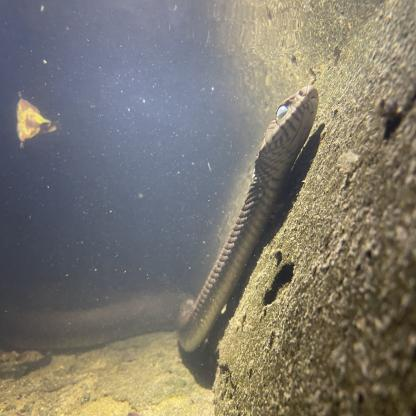Snake: (181, 82, 320, 362)
